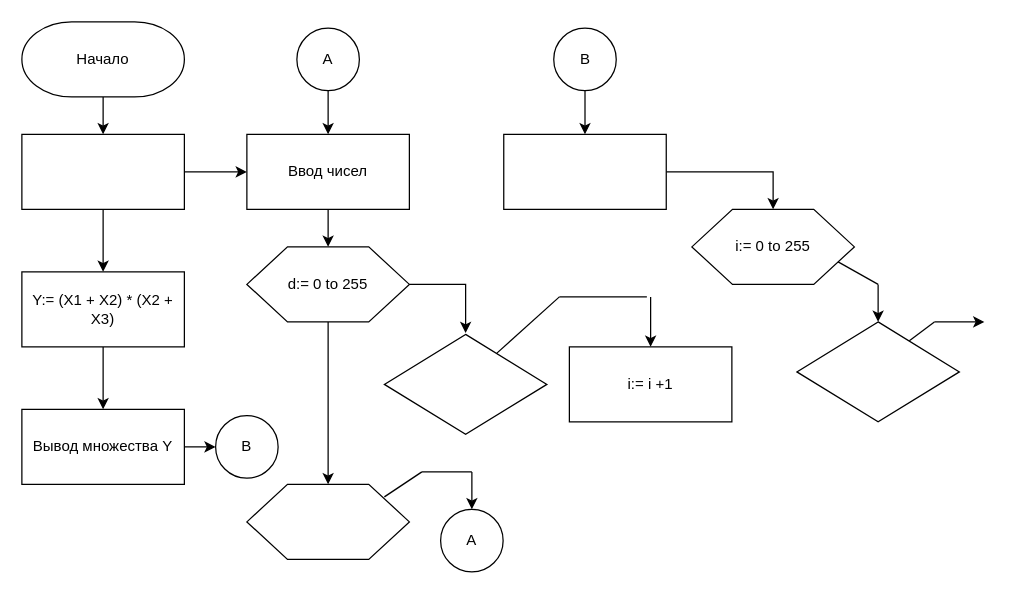
The diagram is 1016 pixels wide and 594 high, and some of its shapes have lost their labels. Here are the shapes that lost their labels. From the top down, the centre of each, then its label:
At (x=102, y=171): "Ввод множества X1,X2,X3".
At (x=584, y=171): "Flag:= True".
At (x=465, y=383): "d in X".
At (x=877, y=371): "i in Mn".
At (x=327, y=521): "i = 10".
